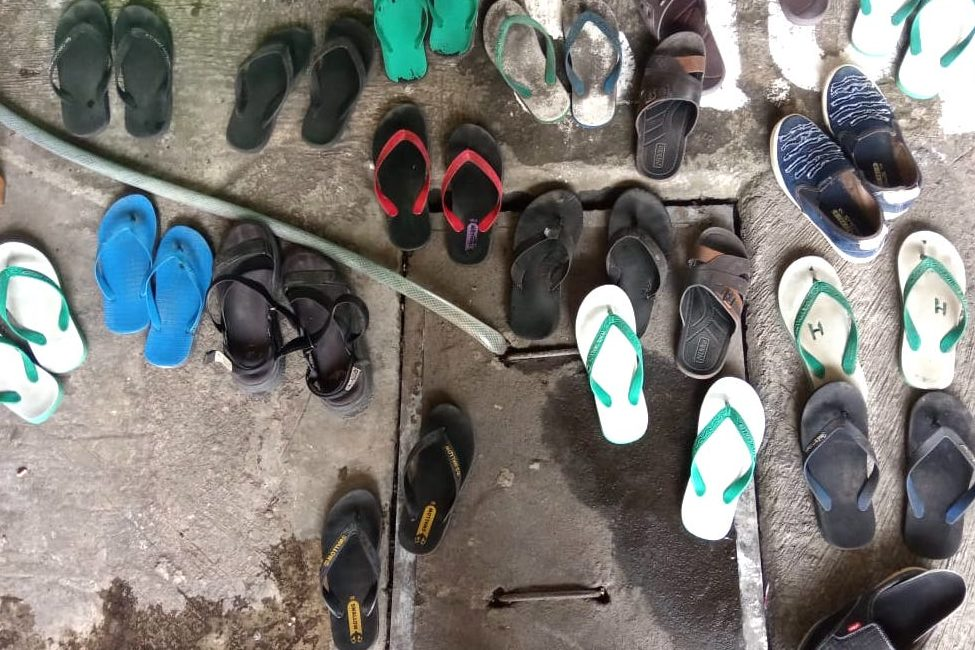sandal: (515, 167, 771, 562), (781, 238, 975, 570), (313, 397, 482, 636), (76, 180, 211, 373), (369, 91, 501, 269), (229, 8, 377, 160), (45, 4, 176, 145)
sepatu: (757, 52, 943, 262)
